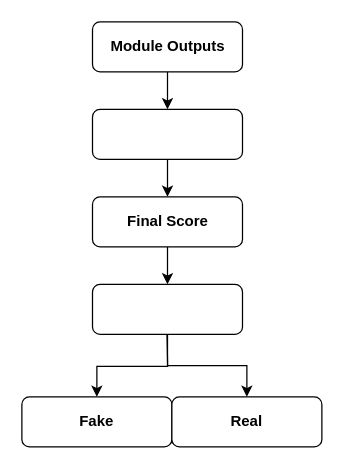
Some shapes in this 344 by 469 pixel diagram are drawn without their labels. Here are the shapes that lost their labels. From the top down, the box of each, then its label:
(91, 108, 242, 159): Weighted Score Calculation
(91, 283, 242, 334): Threshold Comparison
